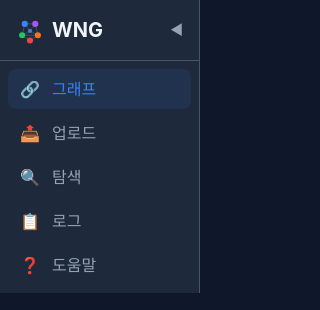
Scenario: Sidebar › expands when toggle button is clicked again
The image size is (320, 310).
Click the button named "메뉴 접기" at (177, 30), box [170,20,183,40]
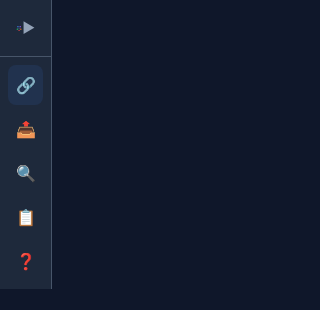
Click the button named "메뉴 펼치기" at (29, 28), box [22,18,35,38]
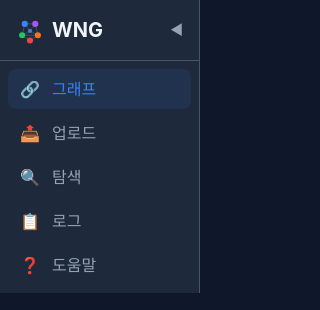
Check: the heading "WNG" is shown, box [52,18,103,42]
Check: the text "그래프" is shown, box [52,77,96,101]
